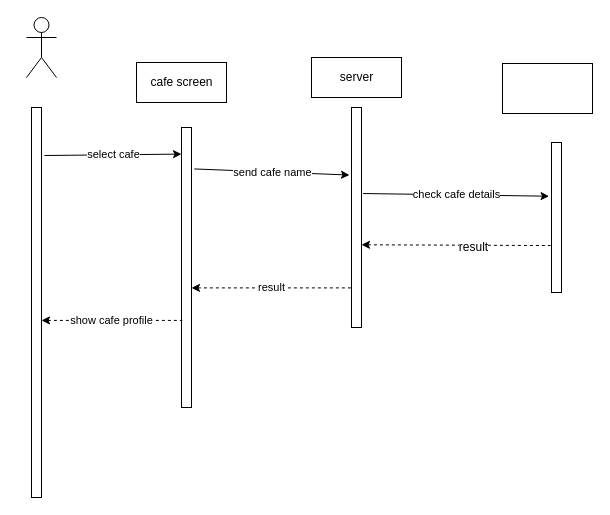
Some shapes in this 610 by 515 pixel diagram are drawn without their labels. Here are the shapes that lost their labels. From the top down, the centre of each, then its label:
At point (41, 47): "customer".
At point (547, 88): "DB: cafe profiles".
